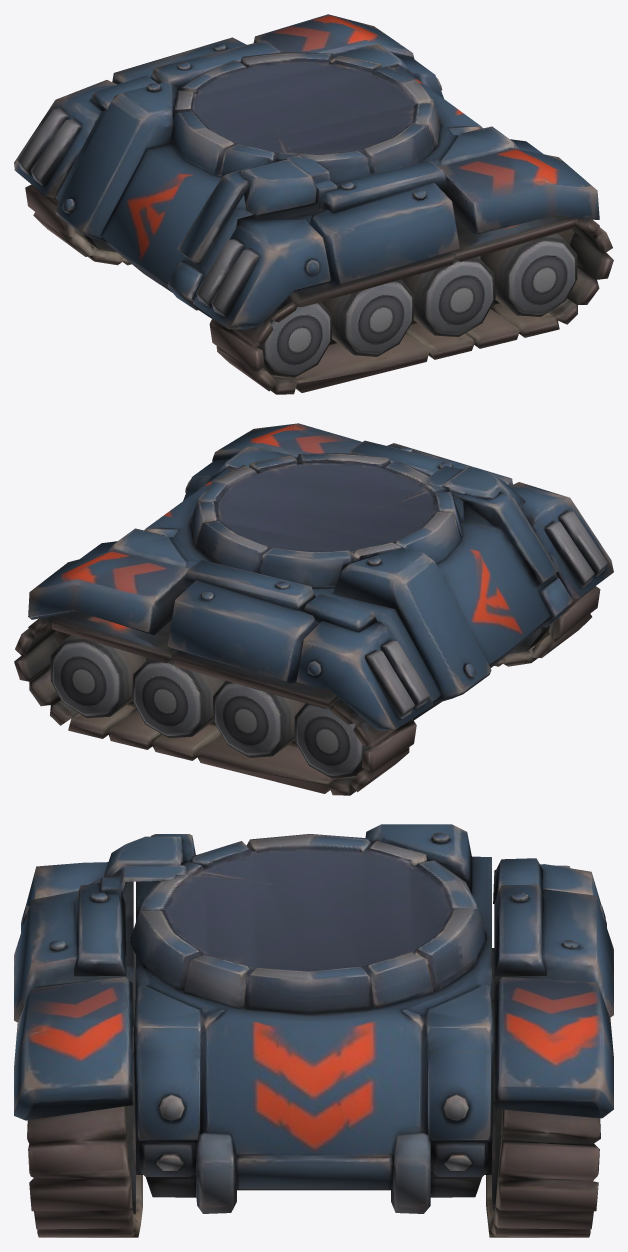
The picture shows the model from 3 angles, top to bottom: view 1: azimuth 30°, elevation 25°; view 2: azimuth 150°, elevation 25°; view 3: azimuth 270°, elevation 25°; orthographic projection. The views are drawn at different scales.
Parts seen in each view (by area): view 1: tripo_node_73b0c9e9-a221-454a-a501-0ac393b7db3d; view 2: tripo_node_73b0c9e9-a221-454a-a501-0ac393b7db3d; view 3: tripo_node_73b0c9e9-a221-454a-a501-0ac393b7db3d.
Part boxes in pixels (x1,y1,x2,y2): tripo_node_73b0c9e9-a221-454a-a501-0ac393b7db3d: (14, 14, 613, 394); tripo_node_73b0c9e9-a221-454a-a501-0ac393b7db3d: (14, 423, 613, 795); tripo_node_73b0c9e9-a221-454a-a501-0ac393b7db3d: (14, 824, 613, 1237).
Bounding box in the file's own units: 0.9902 × 0.4512 × 0.998.
Materials: 1 (1 with a texture image).
